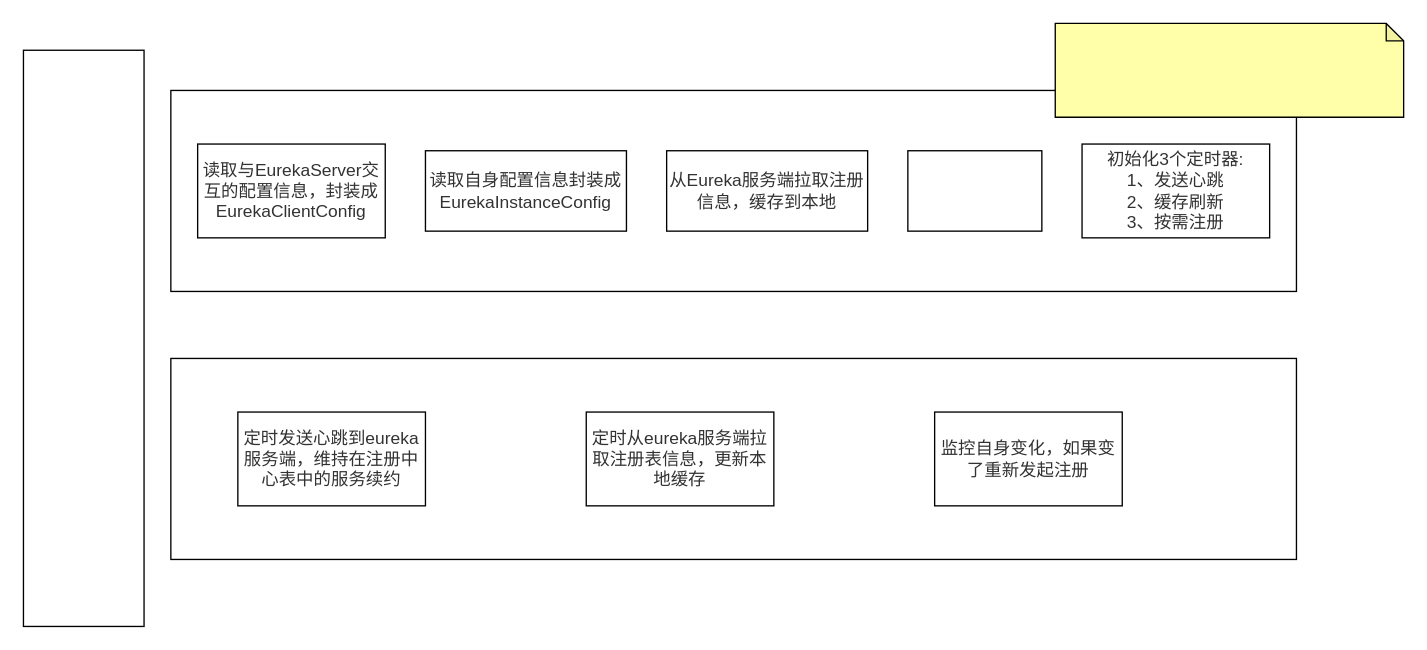
Image size: 1427x650. Some labels were removed from this diagram. The box of each missing label's shape, as (x1, y1, x2, y2) in pixels:
Eureka Client 启动流程: (22, 49, 144, 626)
服务注册: (907, 149, 1042, 231)
缓存刷新:拉取注册表信息，更新本地缓存 定时任务:监控服务实例变化，决定是否重新注册，是否更新注册表中的服务实例元数据: (1054, 22, 1404, 117)
